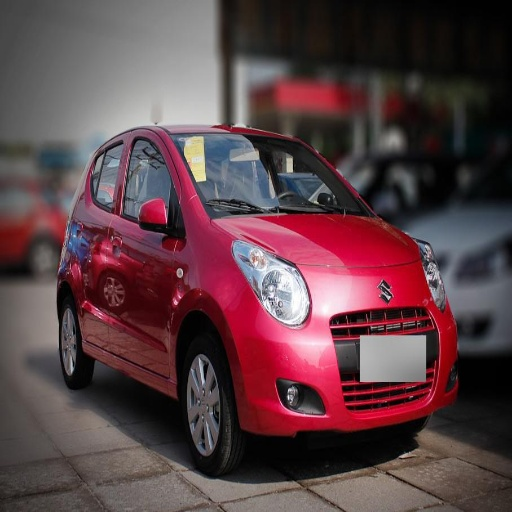back_right_door: (74, 133, 132, 348)
front_bumper: (230, 271, 411, 431)
front_right_door: (109, 130, 182, 375)
front_right_light: (233, 242, 312, 325)
tailgate: (327, 262, 429, 338)
trunk: (379, 331, 431, 387)
